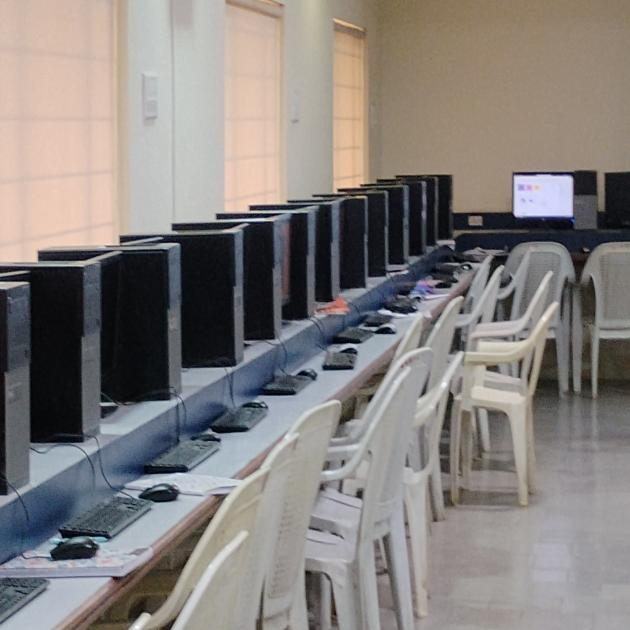chair: (477, 317, 560, 525)
cpu: (30, 257, 104, 451), (186, 220, 255, 376), (124, 245, 187, 410), (265, 198, 318, 331)
desk: (21, 225, 510, 626)
keyboard: (77, 488, 160, 538), (215, 402, 270, 441)
mouse: (53, 534, 100, 571), (144, 481, 181, 505)
windowscreen: (0, 0, 137, 223), (219, 2, 297, 198), (328, 7, 382, 186)
